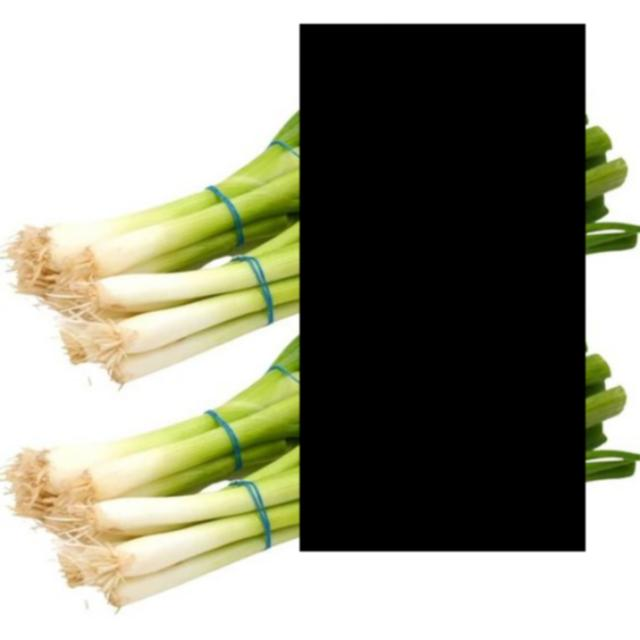Onion_Leaves: (301, 24, 586, 551)
